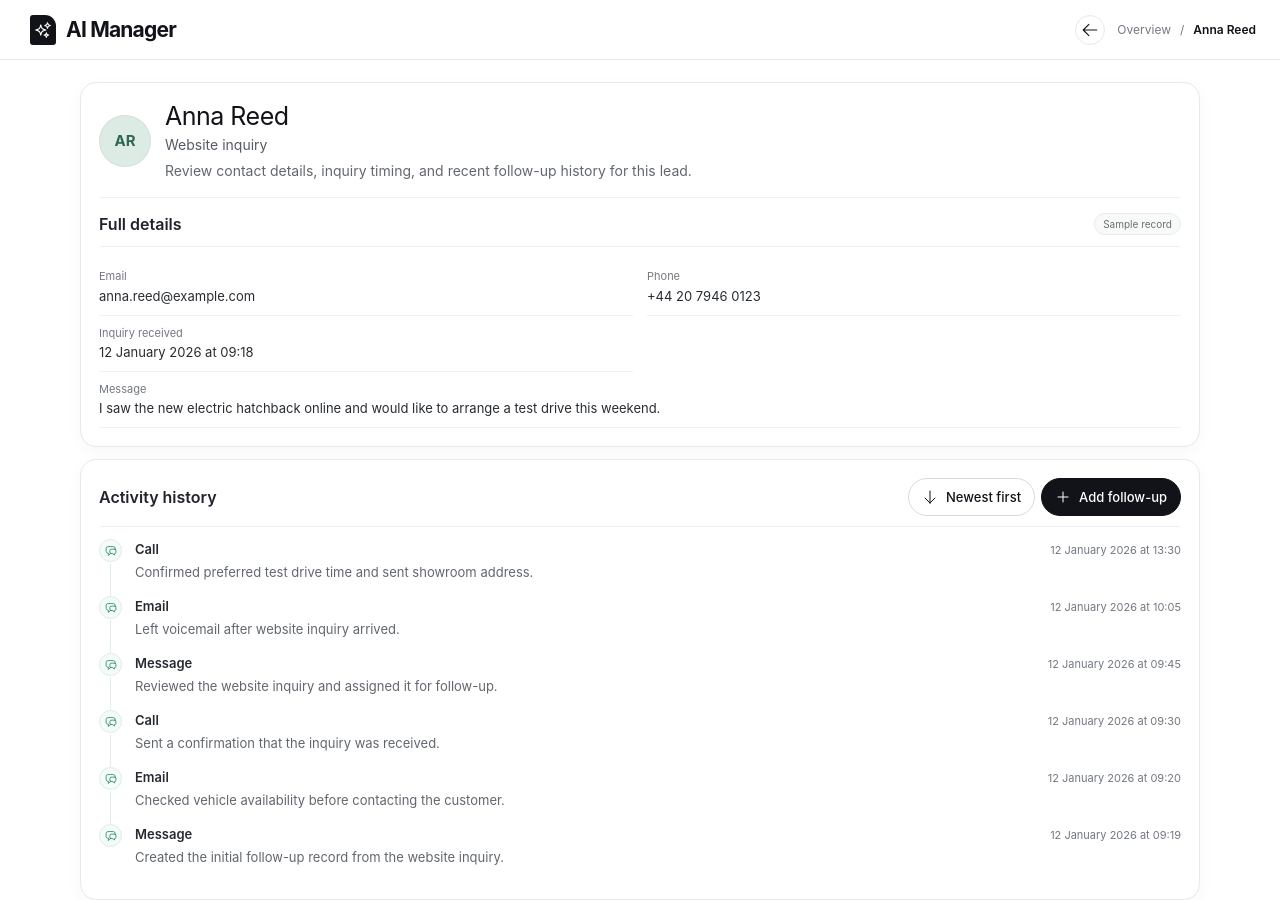
Test: lead browse and read workflow › requests the alternate backend activity sort when the sort button is clicked
Expected: the text "Newest first" is shown, [946,488,1021,507]
Click the button with aria-label "sort activity history oldest first": (972,497) [908,478,1035,516]
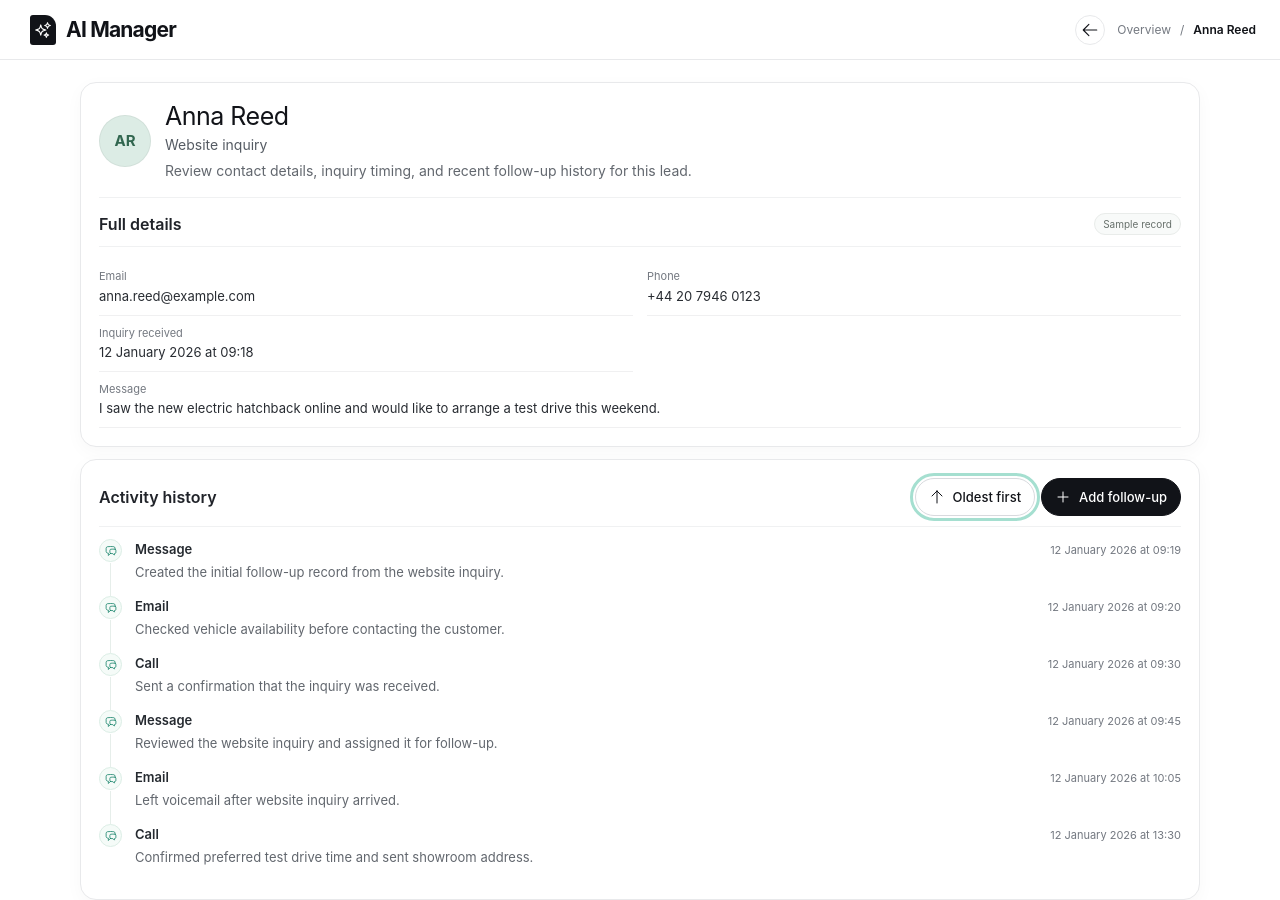
Expected: the element "Activity history" is shown, [80,459,1200,899]
Now the text "Oldest first" is shown, box [953,488,1021,507]
